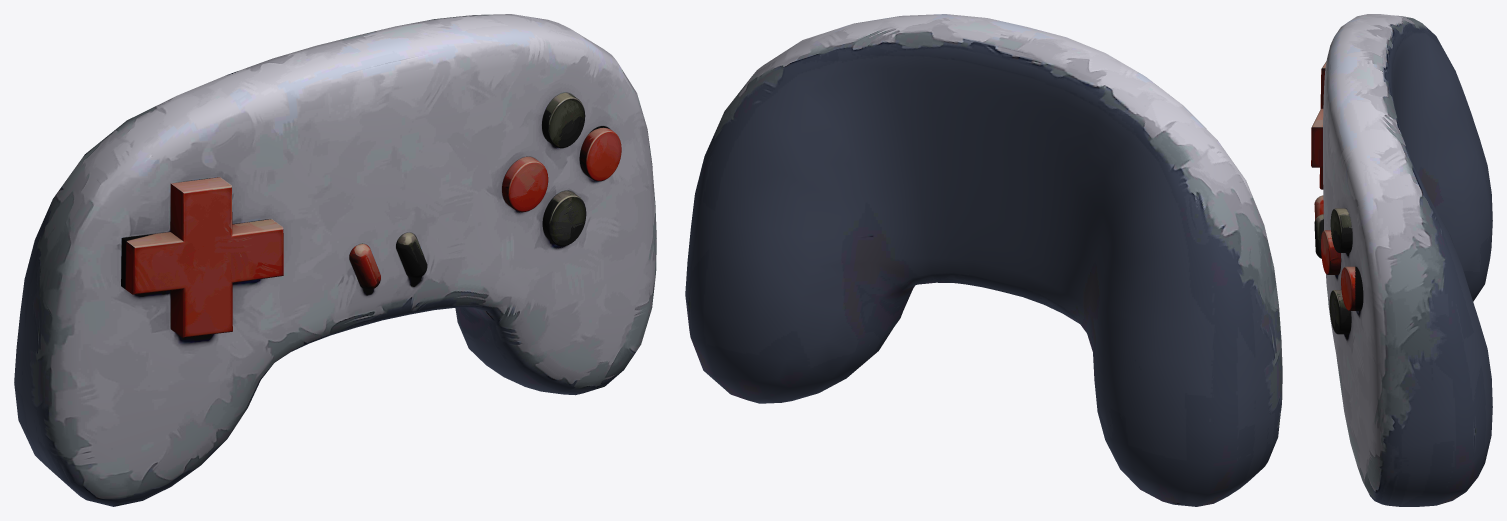
Rendered from WebsiteController.glb.
3 views of the same model, side by side, from view 1: azimuth 30°, elevation 25°; view 2: azimuth 150°, elevation 25°; view 3: azimuth 270°, elevation 25° (orthographic). The views are drawn at different scales.
Parts seen in each view (by area): view 1: Retopo_Plane.001_Baked, Cube_Baked_Baked, Cylinder_Baked_Baked, Cylinder.001_Baked_Baked, Sphere_Baked_Baked; view 2: Retopo_Plane.001_Baked; view 3: Retopo_Plane.001_Baked, Cylinder.001_Baked_Baked, Cylinder_Baked_Baked, Cube_Baked_Baked, Sphere_Baked_Baked.
Part boxes in pixels (left/top/right/bottom): Retopo_Plane.001_Baked: left=14, top=14, right=656, bottom=506; Cube_Baked_Baked: left=121, top=177, right=283, bottom=337; Cylinder_Baked_Baked: left=502, top=126, right=621, bottom=212; Cylinder.001_Baked_Baked: left=542, top=92, right=586, bottom=246; Sphere_Baked_Baked: left=349, top=232, right=427, bottom=289; Retopo_Plane.001_Baked: left=685, top=14, right=1282, bottom=506; Retopo_Plane.001_Baked: left=1323, top=14, right=1492, bottom=506; Cylinder.001_Baked_Baked: left=1329, top=208, right=1352, bottom=334; Cylinder_Baked_Baked: left=1321, top=230, right=1363, bottom=310; Cube_Baked_Baked: left=1311, top=61, right=1326, bottom=189; Sphere_Baked_Baked: left=1314, top=195, right=1323, bottom=258.
Bounding box in the file's own units: 1.89 × 1.24 × 0.5822.
Materials: 5 (5 with a texture image).
